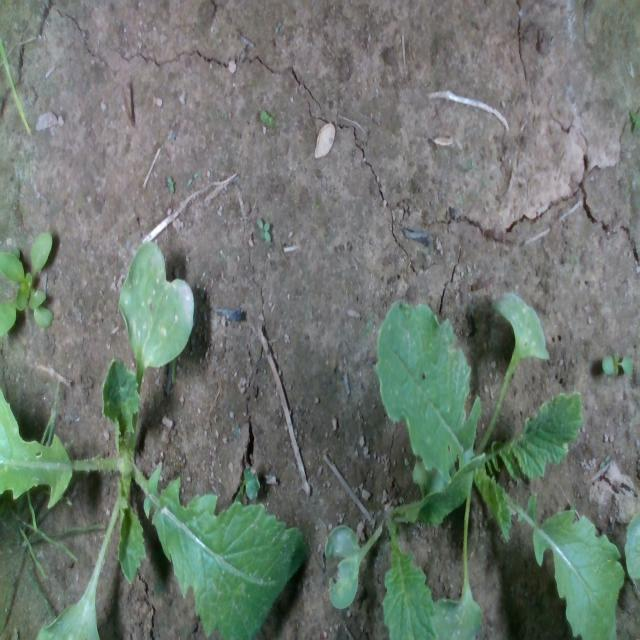weed: (600, 352, 633, 377), (256, 215, 270, 243), (260, 109, 276, 127), (166, 174, 175, 193)
